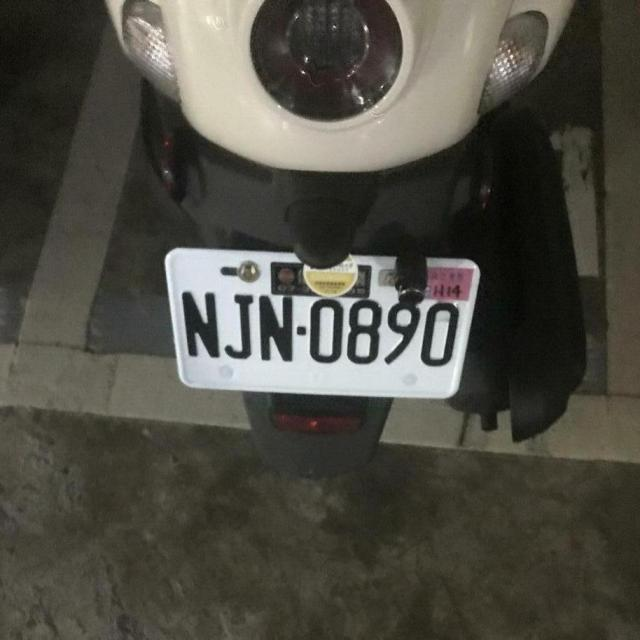W: (155, 221, 489, 417)
